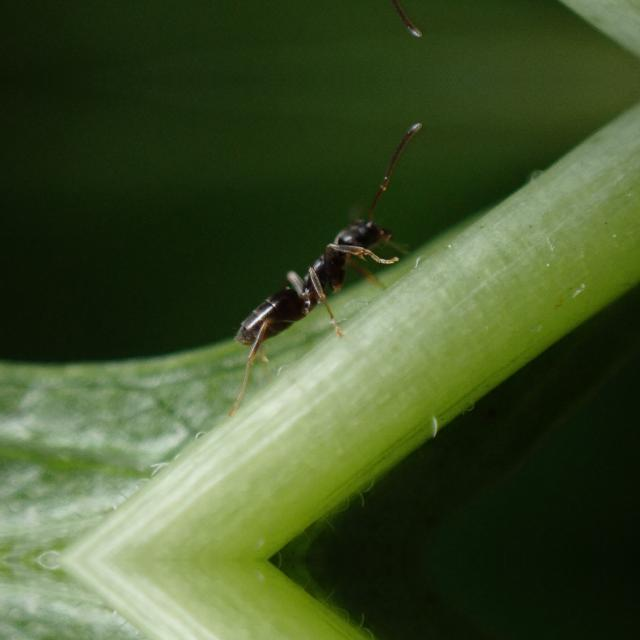Tapinoma: (208, 176, 434, 372)
